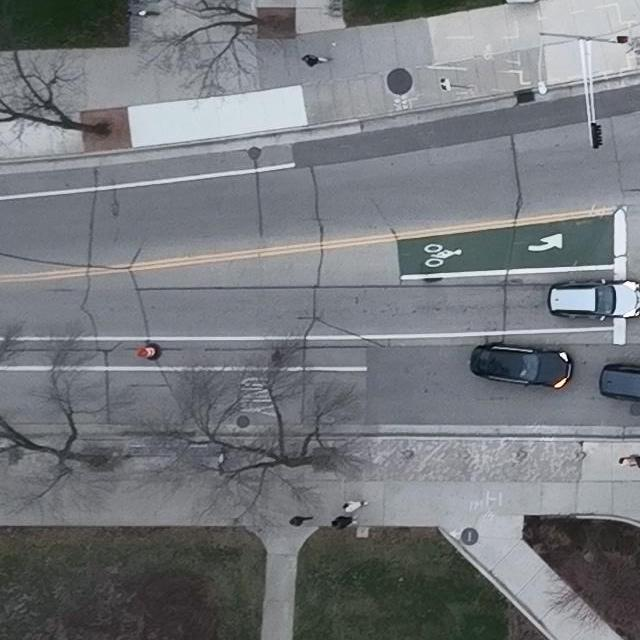car: (470, 343, 574, 390), (547, 277, 640, 321), (600, 364, 640, 400)
